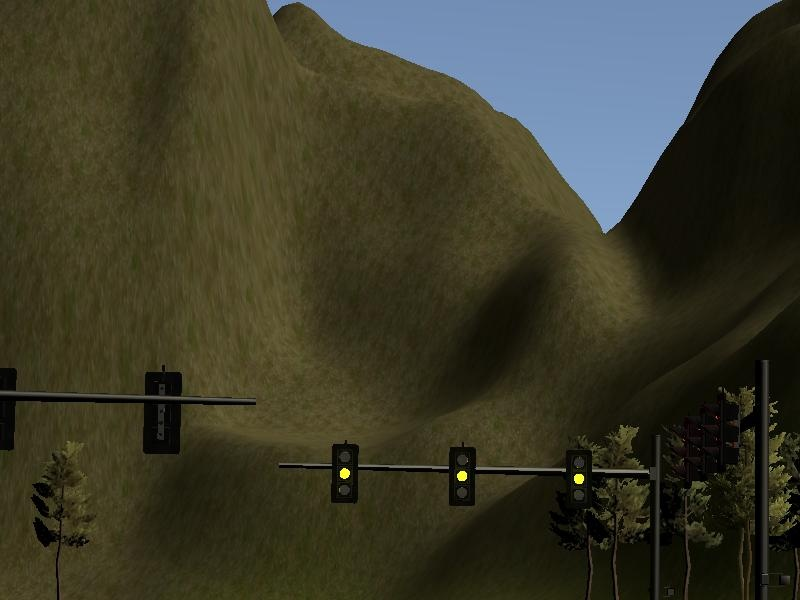YELLOW: (332, 444, 360, 503), (448, 448, 476, 507), (564, 448, 592, 507)
